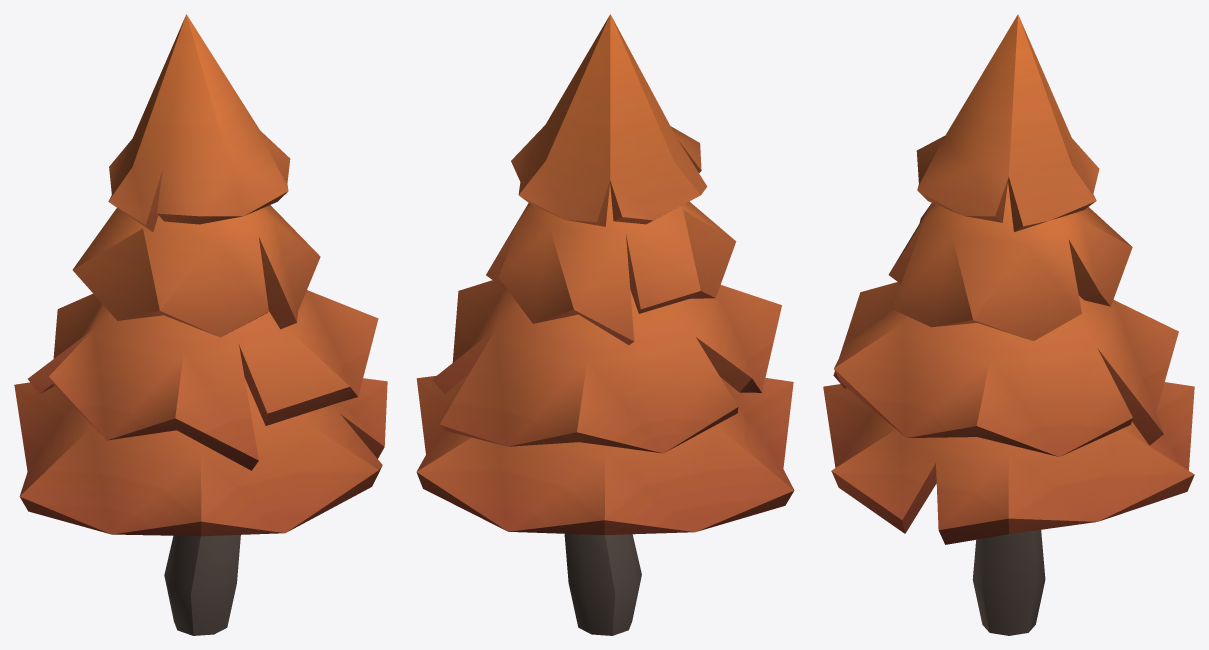
The model's file is hostgran.glb.
3 views of the same model, side by side, from view 1: azimuth 30°, elevation 25°; view 2: azimuth 150°, elevation 25°; view 3: azimuth 270°, elevation 25° (orthographic).
Parts seen in each view (by area): view 1: tree_pine_orange_large; view 2: tree_pine_orange_large; view 3: tree_pine_orange_large.
Part boxes in pixels (<box>): tree_pine_orange_large: <box>14,14,387,635</box>; tree_pine_orange_large: <box>416,14,794,635</box>; tree_pine_orange_large: <box>823,14,1194,635</box>.
Size of the model in its own units: 4.76 by 7.48 by 4.16.
1 material, 1 textured.
